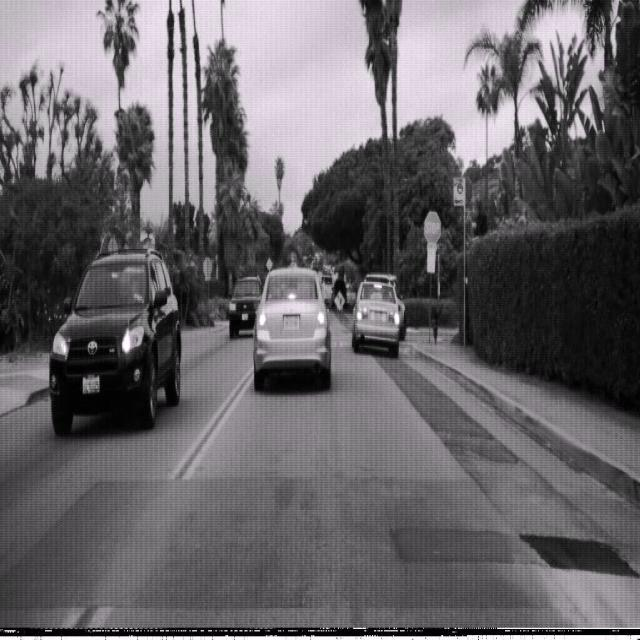stop_sign: (424, 210, 441, 245)
